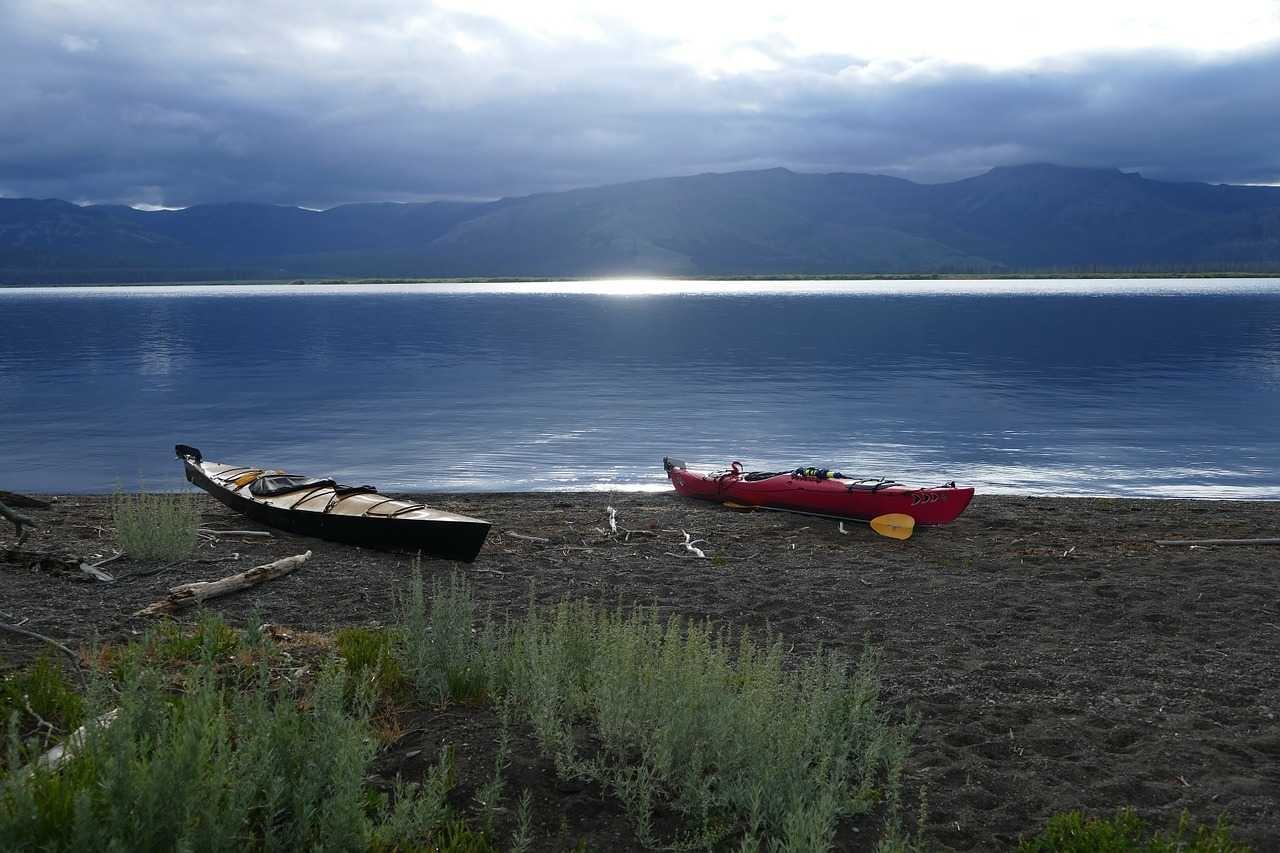kayak: (174, 443, 490, 562), (664, 457, 974, 529)
